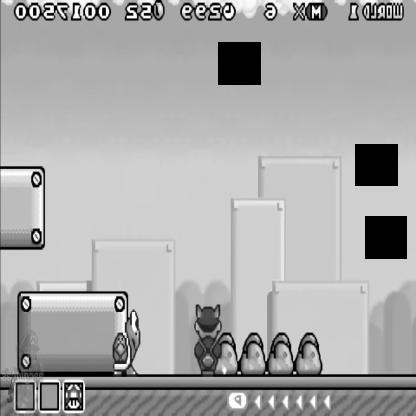Mario: (191, 304, 223, 377)
hongo: (63, 379, 82, 411)
koopa: (111, 310, 143, 380)
moneda: (152, 0, 165, 23)
